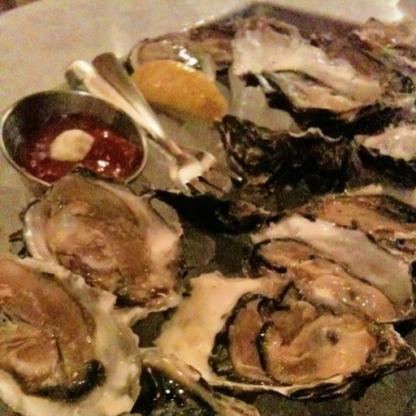oyster: (172, 276, 405, 393), (0, 253, 136, 415), (26, 173, 184, 306)
